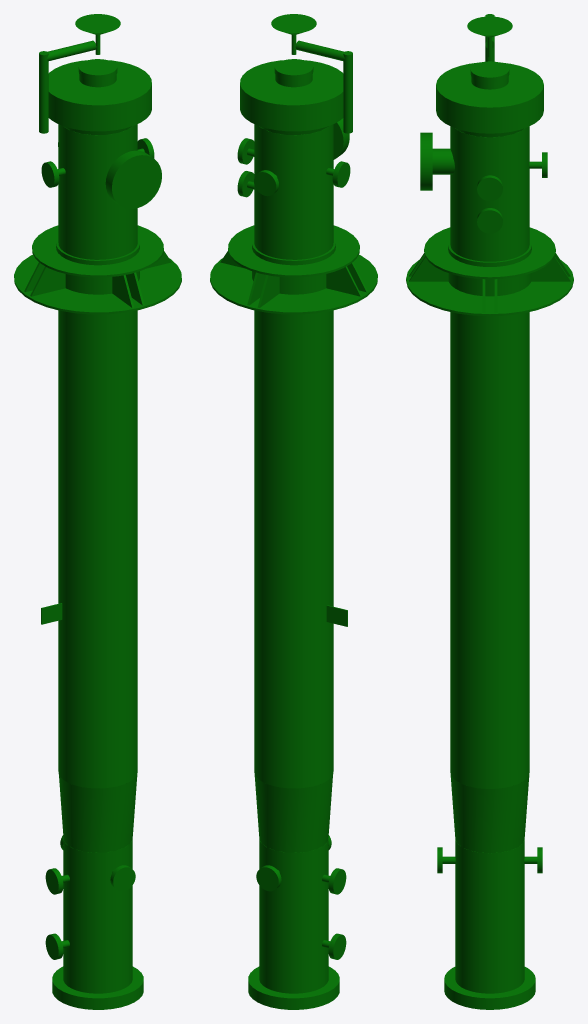
The model's file is Image-1711348185471-2281130792352_27-VW50.fbx.
The picture shows the model from 3 angles, left to right: view 1: azimuth 30°, elevation 25°; view 2: azimuth 150°, elevation 25°; view 3: azimuth 270°, elevation 25°; orthographic projection.
Visible parts, largest first — view 1: CYLINDER 2 of SUBEQUIPMENT /27-VW50/PRIM, CYLINDER 1 of SUBEQUIPMENT /27-VW50/PRIM, CYLINDER 3 of SUBEQUIPMENT /27-VW50/PRIM, CONE 1 of SUBEQUIPMENT /27-VW50/PRIM, CYLINDER 2 of SUBEQUIPMENT /27-VW50/SUPPORT, CYLINDER 3 of SUBEQUIPMENT /27-VW50/SUPPORT, /27-VW50/N1, /27-VW50/N2, CYLINDER 1 of SUBEQUIPMENT /27-VW50/SUPPORT, CYLINDER 4 of SUBEQUIPMENT /27-VW50/PRIM, PYRAMID 1 of SUBEQUIPMENT /27-VW50/SUPPORT, CONE 3 of SUBEQUIPMENT /27-VW50/PRIM (+7 smaller); view 2: CYLINDER 2 of SUBEQUIPMENT /27-VW50/PRIM, CYLINDER 1 of SUBEQUIPMENT /27-VW50/PRIM, CYLINDER 3 of SUBEQUIPMENT /27-VW50/PRIM, CONE 1 of SUBEQUIPMENT /27-VW50/PRIM, CYLINDER 2 of SUBEQUIPMENT /27-VW50/SUPPORT, CYLINDER 3 of SUBEQUIPMENT /27-VW50/SUPPORT, /27-VW50/N2, CYLINDER 1 of SUBEQUIPMENT /27-VW50/SUPPORT, CYLINDER 4 of SUBEQUIPMENT /27-VW50/PRIM, PYRAMID 2 of SUBEQUIPMENT /27-VW50/SUPPORT, CONE 3 of SUBEQUIPMENT /27-VW50/PRIM, CYLINDER 1 of SUBEQUIPMENT /27-VW50/NOZZ (+8 smaller); view 3: CYLINDER 2 of SUBEQUIPMENT /27-VW50/PRIM, CYLINDER 1 of SUBEQUIPMENT /27-VW50/PRIM, CYLINDER 3 of SUBEQUIPMENT /27-VW50/PRIM, CONE 1 of SUBEQUIPMENT /27-VW50/PRIM, CYLINDER 2 of SUBEQUIPMENT /27-VW50/SUPPORT, CYLINDER 3 of SUBEQUIPMENT /27-VW50/SUPPORT, /27-VW50/N2, CYLINDER 1 of SUBEQUIPMENT /27-VW50/SUPPORT, /27-VW50/N1, PYRAMID 4 of SUBEQUIPMENT /27-VW50/SUPPORT, CONE 3 of SUBEQUIPMENT /27-VW50/PRIM, CYLINDER 1 of SUBEQUIPMENT /27-VW50/NOZZ (+2 smaller).
Part boxes in pixels (box(x1,y1,x2,y2)): CYLINDER 2 of SUBEQUIPMENT /27-VW50/PRIM: box(58, 124, 137, 788); CYLINDER 1 of SUBEQUIPMENT /27-VW50/PRIM: box(63, 837, 132, 993); CYLINDER 3 of SUBEQUIPMENT /27-VW50/PRIM: box(48, 60, 151, 131); CONE 1 of SUBEQUIPMENT /27-VW50/PRIM: box(59, 774, 137, 852); CYLINDER 2 of SUBEQUIPMENT /27-VW50/SUPPORT: box(14, 254, 181, 314); CYLINDER 3 of SUBEQUIPMENT /27-VW50/SUPPORT: box(32, 225, 163, 277); /27-VW50/N1: box(105, 150, 161, 208); /27-VW50/N2: box(52, 966, 143, 1009); CYLINDER 1 of SUBEQUIPMENT /27-VW50/SUPPORT: box(56, 237, 139, 294); CYLINDER 4 of SUBEQUIPMENT /27-VW50/PRIM: box(39, 51, 48, 133); PYRAMID 1 of SUBEQUIPMENT /27-VW50/SUPPORT: box(30, 251, 171, 296); CONE 3 of SUBEQUIPMENT /27-VW50/PRIM: box(75, 14, 120, 34); CYLINDER 2 of SUBEQUIPMENT /27-VW50/PRIM: box(254, 124, 333, 788); CYLINDER 1 of SUBEQUIPMENT /27-VW50/PRIM: box(259, 837, 328, 993); CYLINDER 3 of SUBEQUIPMENT /27-VW50/PRIM: box(240, 60, 343, 131); CONE 1 of SUBEQUIPMENT /27-VW50/PRIM: box(254, 774, 332, 852); CYLINDER 2 of SUBEQUIPMENT /27-VW50/SUPPORT: box(210, 254, 377, 314); CYLINDER 3 of SUBEQUIPMENT /27-VW50/SUPPORT: box(228, 225, 359, 277); /27-VW50/N2: box(248, 966, 339, 1009); CYLINDER 1 of SUBEQUIPMENT /27-VW50/SUPPORT: box(252, 237, 335, 294); CYLINDER 4 of SUBEQUIPMENT /27-VW50/PRIM: box(343, 51, 352, 133); PYRAMID 2 of SUBEQUIPMENT /27-VW50/SUPPORT: box(220, 251, 361, 296); CONE 3 of SUBEQUIPMENT /27-VW50/PRIM: box(271, 14, 316, 34); CYLINDER 1 of SUBEQUIPMENT /27-VW50/NOZZ: box(274, 59, 313, 80); CYLINDER 2 of SUBEQUIPMENT /27-VW50/PRIM: box(450, 126, 529, 788); CYLINDER 1 of SUBEQUIPMENT /27-VW50/PRIM: box(455, 839, 524, 993); CYLINDER 3 of SUBEQUIPMENT /27-VW50/PRIM: box(436, 62, 543, 133); CONE 1 of SUBEQUIPMENT /27-VW50/PRIM: box(450, 774, 529, 853); CYLINDER 2 of SUBEQUIPMENT /27-VW50/SUPPORT: box(406, 260, 573, 316); CYLINDER 3 of SUBEQUIPMENT /27-VW50/SUPPORT: box(424, 227, 555, 279); /27-VW50/N2: box(444, 967, 535, 1009); CYLINDER 1 of SUBEQUIPMENT /27-VW50/SUPPORT: box(448, 240, 531, 296); /27-VW50/N1: box(420, 132, 454, 190); PYRAMID 4 of SUBEQUIPMENT /27-VW50/SUPPORT: box(409, 256, 570, 281); CONE 3 of SUBEQUIPMENT /27-VW50/PRIM: box(467, 16, 512, 37); CYLINDER 1 of SUBEQUIPMENT /27-VW50/NOZZ: box(470, 61, 509, 82).
Bounding box in the file's own units: 1.4 × 1.4 × 8.88.
